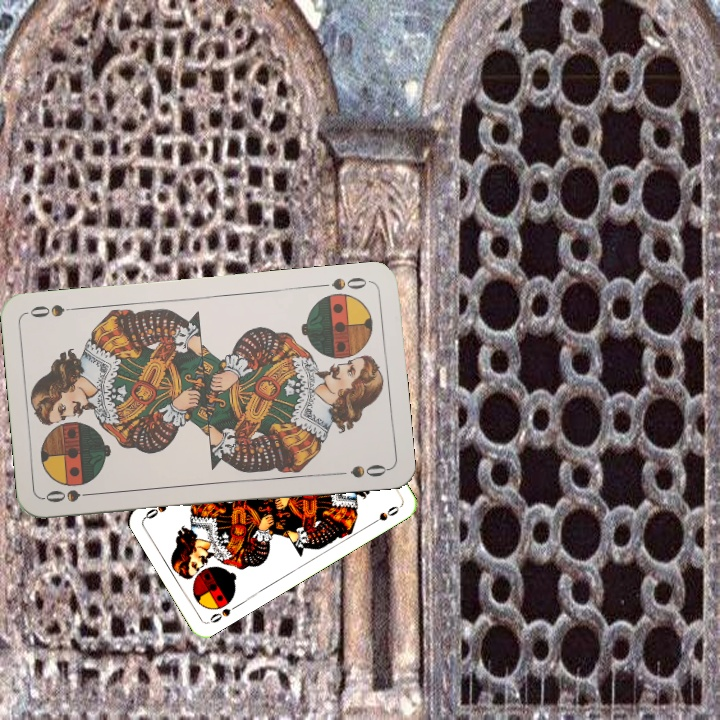SO: (313, 273, 373, 293), (41, 486, 100, 505), (205, 600, 241, 625)
